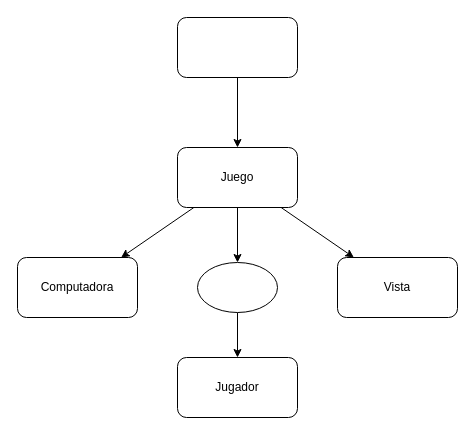
Image size: 475x435. Some labels were removed from this diagram. Here are the shapes that lost their labels. From the top down, the centre of each, then its label:
point 237,47: Main
point 237,287: jugar
